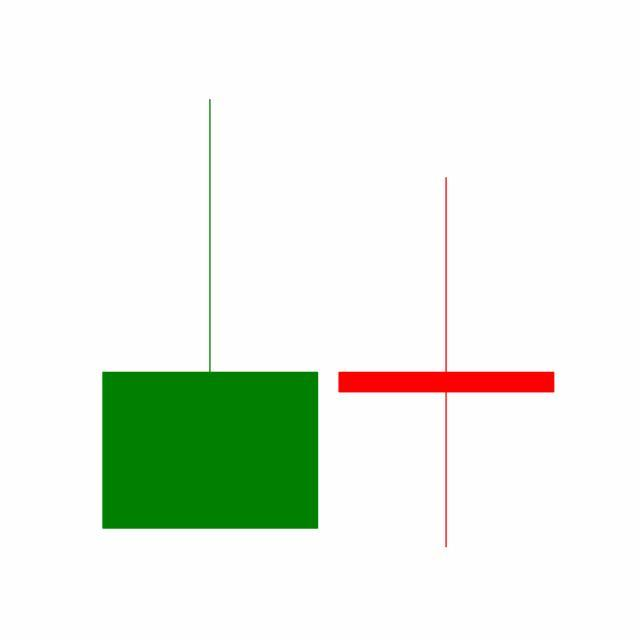Spinning Top: (328, 174, 566, 553)
